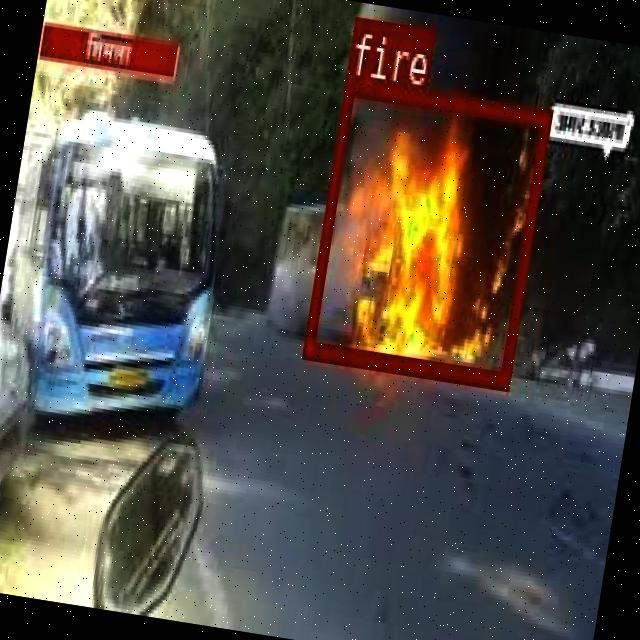fire: (301, 76, 550, 387)
